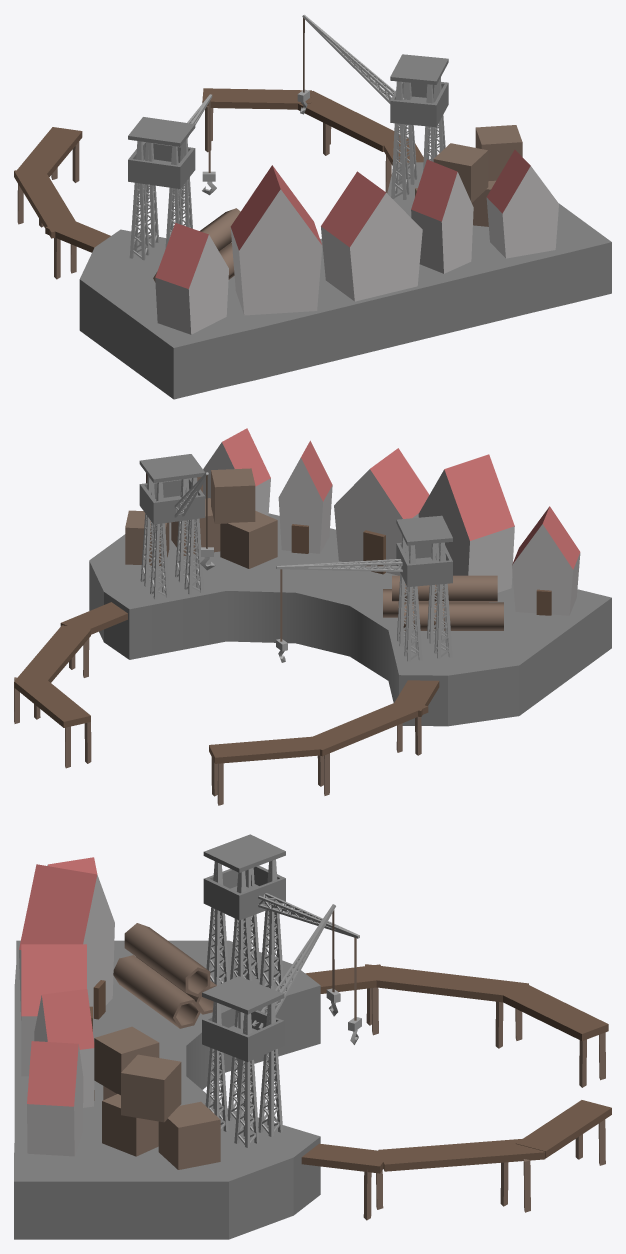
The model's file is Doc.fbx.
The picture shows the model from 3 angles, top to bottom: view 1: azimuth 30°, elevation 25°; view 2: azimuth 150°, elevation 25°; view 3: azimuth 270°, elevation 25°; orthographic projection. The views are drawn at different scales.
Parts seen in each view (by area): view 1: pCube35, pCube59, pCube58, pCube53, polySurface68, pCube60, pCube62, pCube61, polySurface5, polySurface6, polySurface1, pCube67 (+5 smaller); view 2: pCube35, pCube59, pCube53, polySurface68, pCube58, pCube60, pCube61, pCube64, pCube62, pCube67, polySurface6, polySurface2 (+11 smaller); view 3: pCube35, pCube53, polySurface68, pCube59, pCube62, pCube58, pCube61, pCube66, polySurface5, pCube65, polySurface6, pCylinder17 (+8 smaller).
Boxes of the visible parts, left/top/right/bottom form: pCube35: left=79, top=162, right=611, bottom=399; pCube59: left=230, top=165, right=322, bottom=315; pCube58: left=321, top=171, right=422, bottom=301; pCube53: left=302, top=14, right=448, bottom=199; polySurface68: left=128, top=117, right=195, bottom=260; pCube60: left=155, top=223, right=228, bottom=334; pCube62: left=486, top=149, right=558, bottom=258; pCube61: left=411, top=159, right=473, bottom=273; polySurface5: left=298, top=91, right=400, bottom=151; polySurface6: left=14, top=165, right=78, bottom=238; polySurface1: left=202, top=88, right=311, bottom=109; pCube67: left=433, top=143, right=488, bottom=202; pCube35: left=89, top=513, right=611, bottom=726; pCube59: left=418, top=454, right=514, bottom=592; pCube53: left=139, top=454, right=208, bottom=599; polySurface68: left=396, top=515, right=452, bottom=661; pCube58: left=334, top=448, right=429, bottom=575; pCube60: left=512, top=506, right=580, bottom=615; pCube61: left=278, top=440, right=332, bottom=553; pCube64: left=220, top=511, right=277, bottom=568; pCube62: left=203, top=428, right=270, bottom=515; pCube67: left=211, top=468, right=255, bottom=523; polySurface6: left=302, top=701, right=428, bottom=756; polySurface2: left=209, top=736, right=319, bottom=763; pCube35: left=14, top=940, right=320, bottom=1239; pCube53: left=202, top=904, right=335, bottom=1147; polySurface68: left=203, top=834, right=285, bottom=989; pCube59: left=19, top=864, right=114, bottom=1020; pCube62: left=27, top=1041, right=83, bottom=1156; pCube58: left=21, top=944, right=86, bottom=1076; pCube61: left=34, top=989, right=94, bottom=1107; pCube66: left=121, top=1054, right=181, bottom=1122; polySurface5: left=378, top=1139, right=545, bottom=1171; pCube65: left=158, top=1101, right=220, bottom=1169; polySurface6: left=362, top=964, right=528, bottom=1002; pCylinder17: left=113, top=955, right=201, bottom=1028.
Size of the model in its own units: 522 by 249 by 548.
